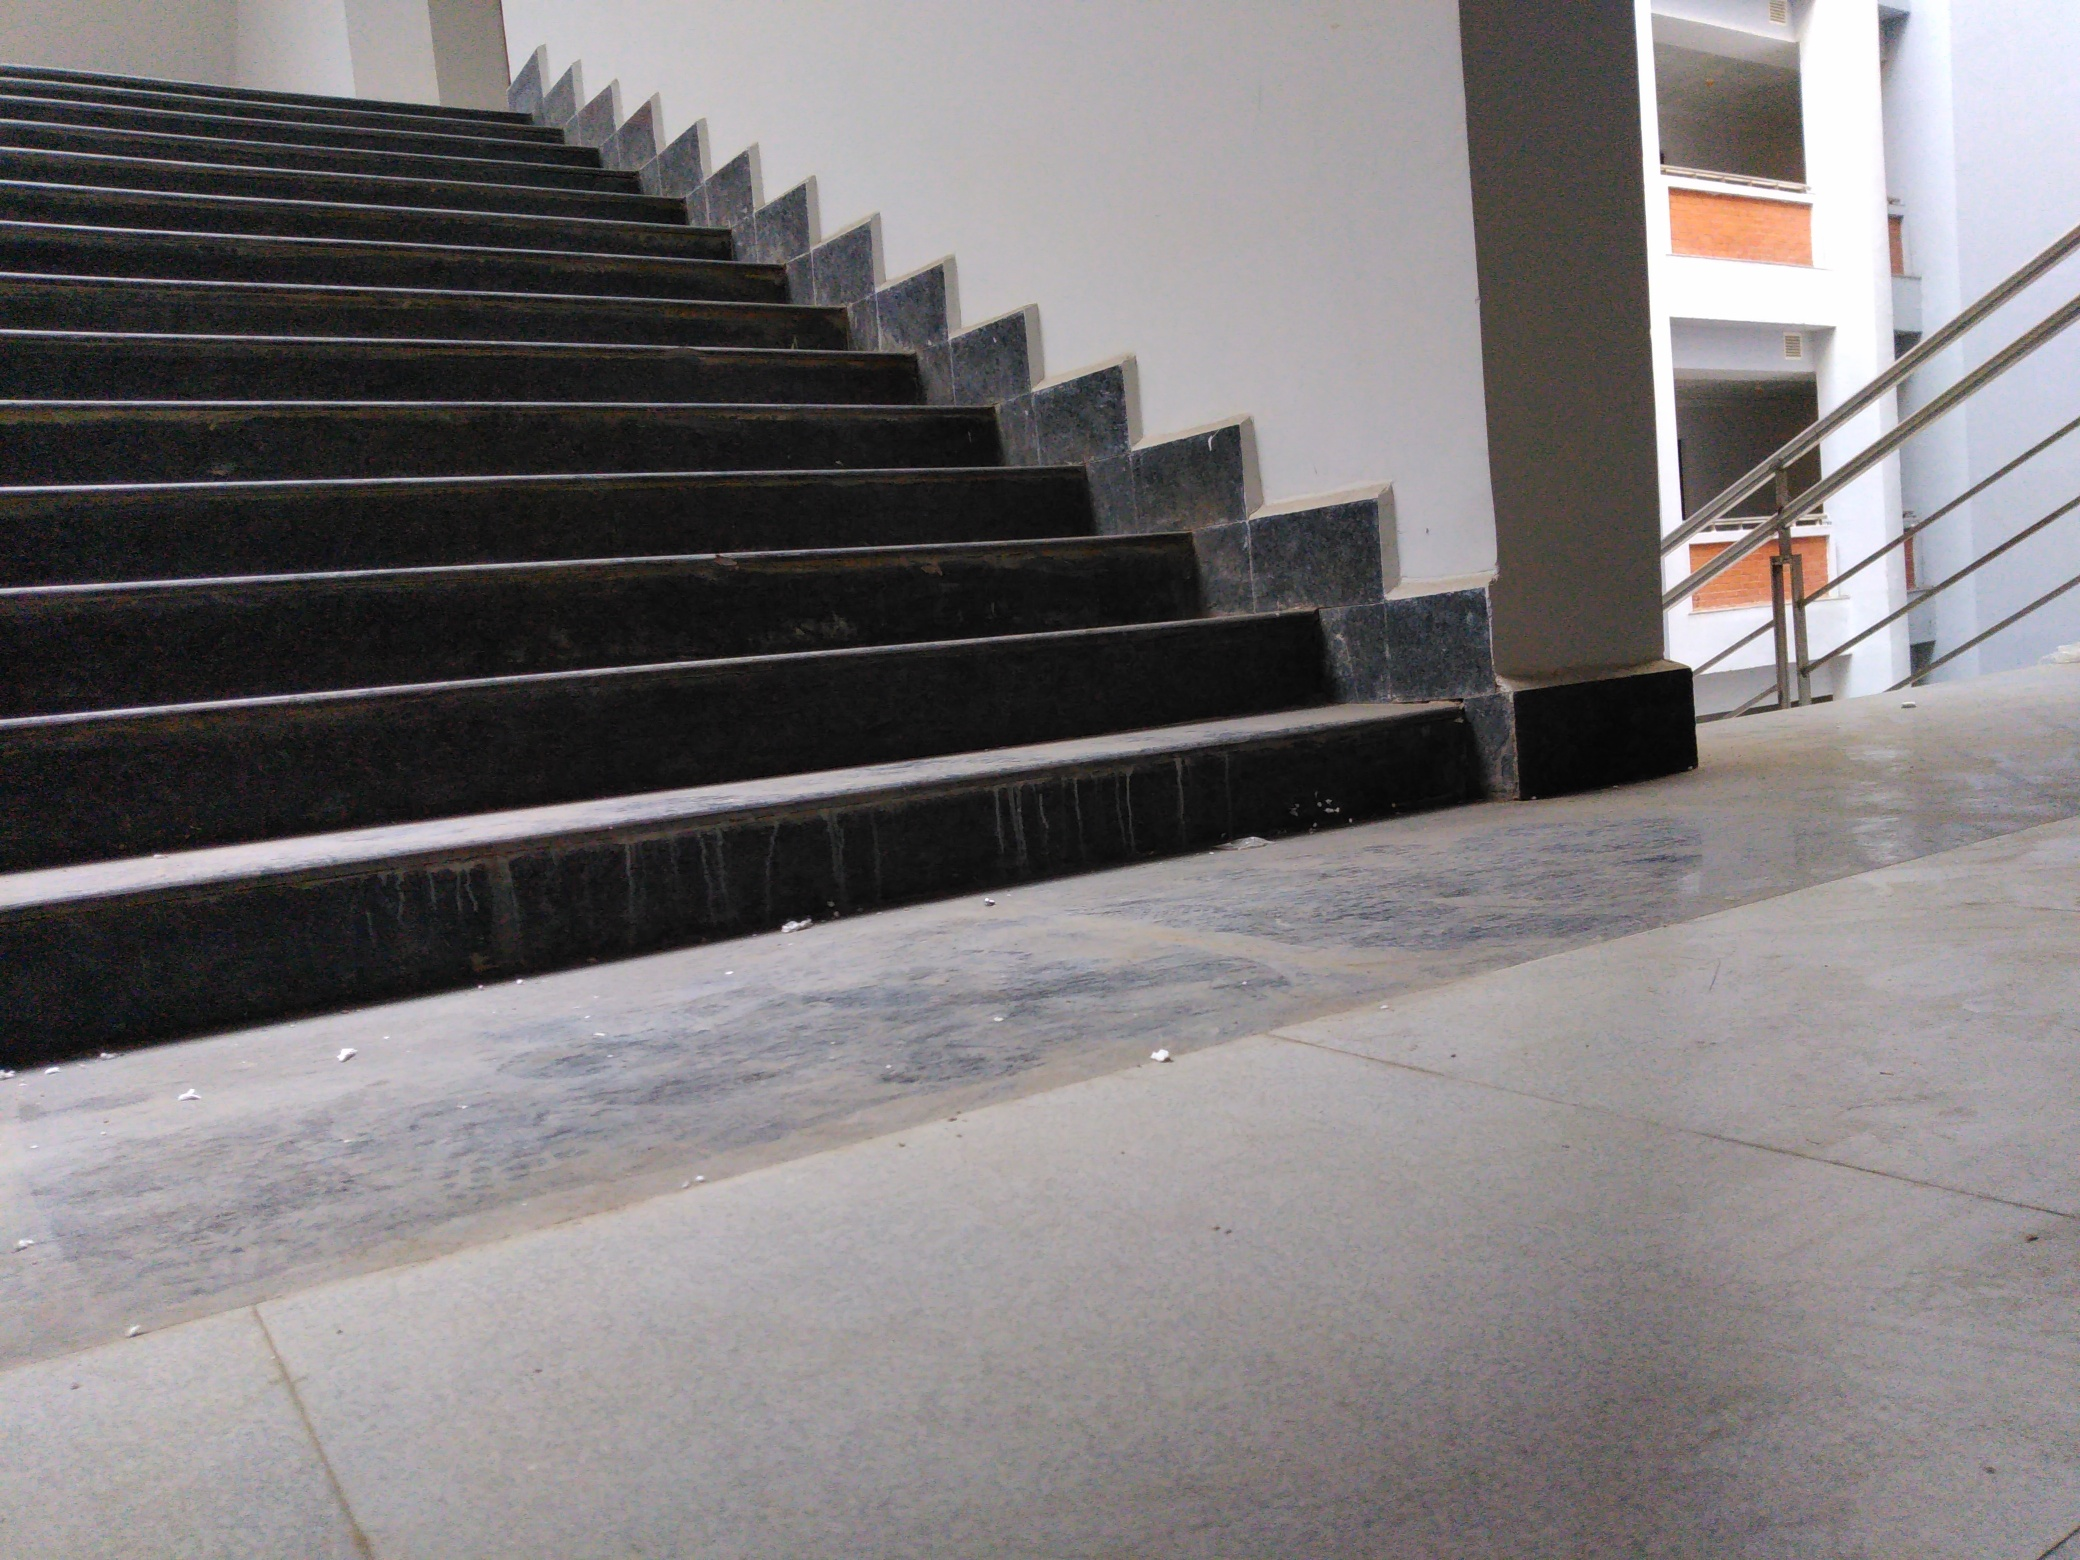stairs_up: (26, 120, 1291, 909)
